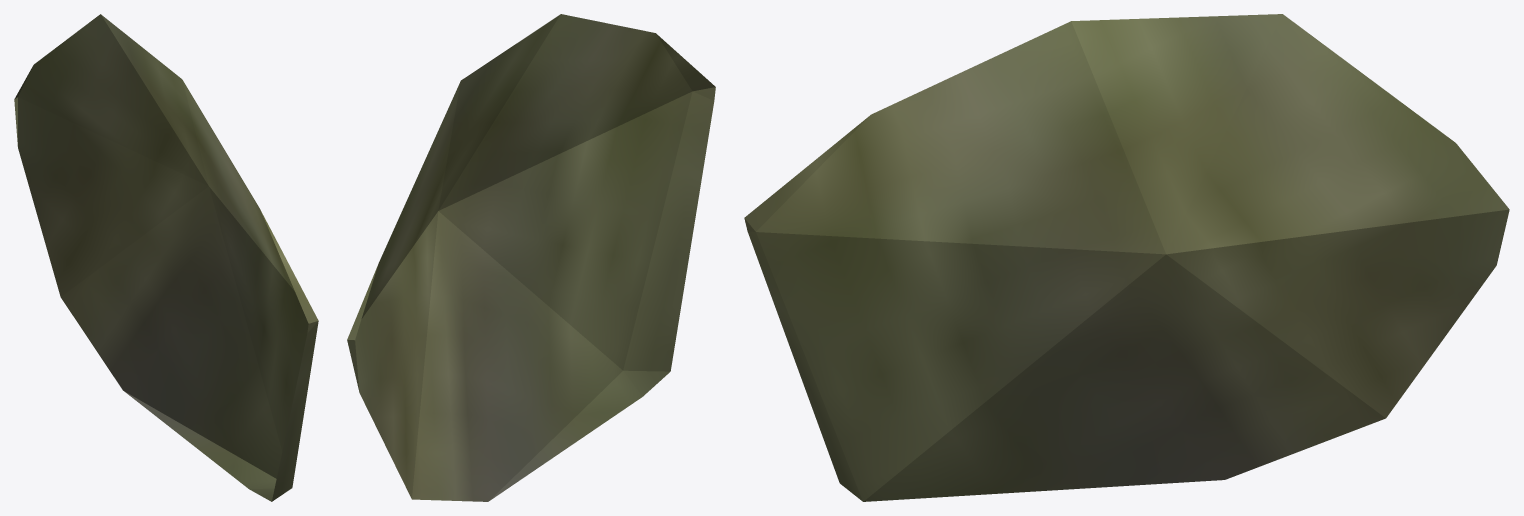
3 views of the same model, side by side, from view 1: azimuth 30°, elevation 25°; view 2: azimuth 150°, elevation 25°; view 3: azimuth 270°, elevation 25° (orthographic). The views are drawn at different scales.
Size of the model in its own units: 0.0251 by 0.1386 by 0.2027.
1 material, 1 textured.
